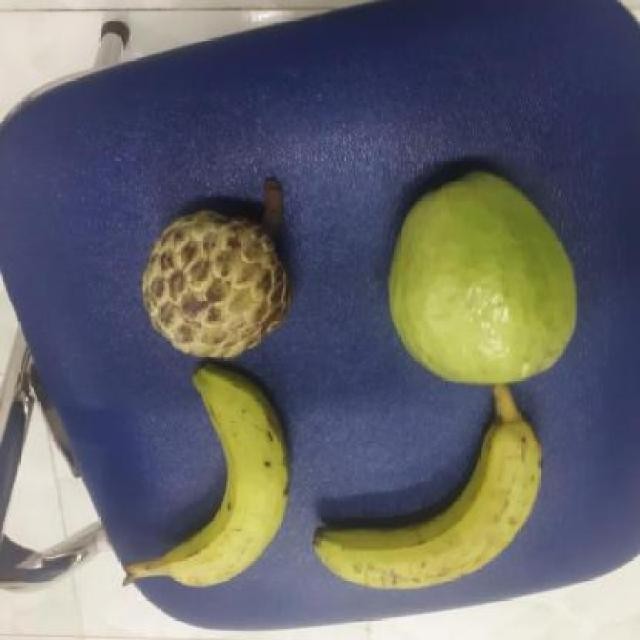banana: (305, 399, 550, 586), (138, 361, 294, 597)
guava: (369, 169, 585, 392)
sugar apple: (139, 207, 292, 364)
